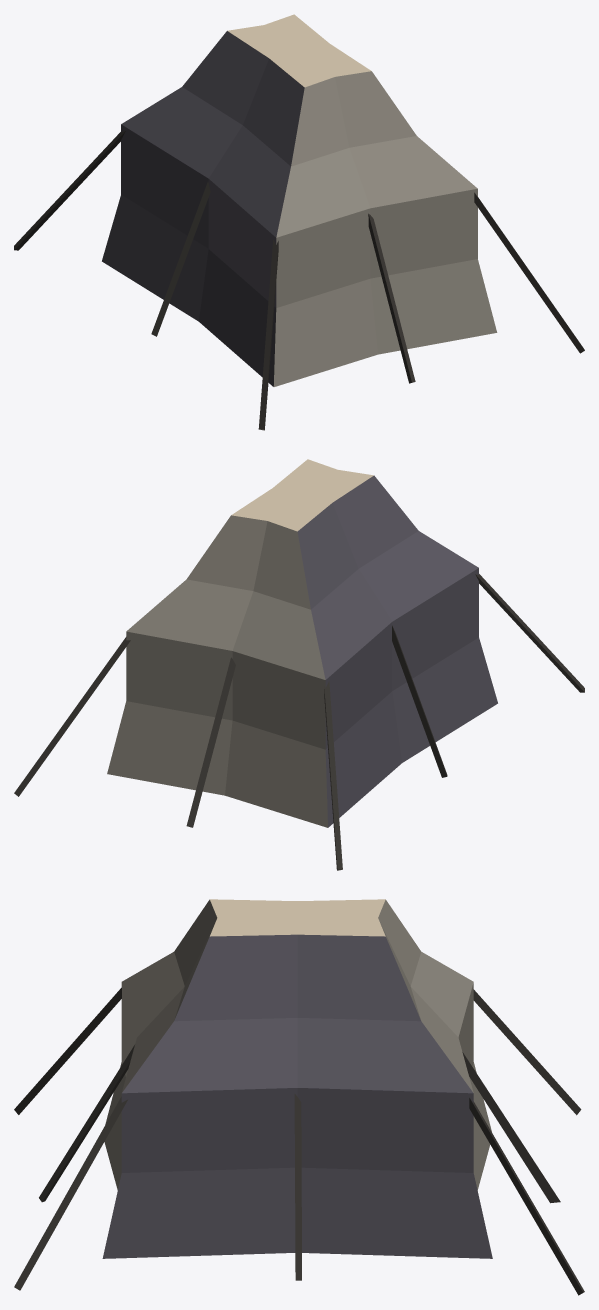
The model's file is TB_D_Prop_Tent_Big_A.FBX.
3 views of the same model, one above another, from view 1: azimuth 30°, elevation 25°; view 2: azimuth 150°, elevation 25°; view 3: azimuth 270°, elevation 25° (orthographic). The views are drawn at different scales.
Visible parts, largest first — view 1: TB_D_Prop_Tent_Big_A; view 2: TB_D_Prop_Tent_Big_A; view 3: TB_D_Prop_Tent_Big_A.
Boxes of the visible parts, box(x1,y1,x2,y2) form: TB_D_Prop_Tent_Big_A: box(14, 14, 584, 430); TB_D_Prop_Tent_Big_A: box(14, 459, 584, 870); TB_D_Prop_Tent_Big_A: box(14, 899, 584, 1295).
Bounding box in the file's own units: 4.9 × 3.6 × 6.49.
